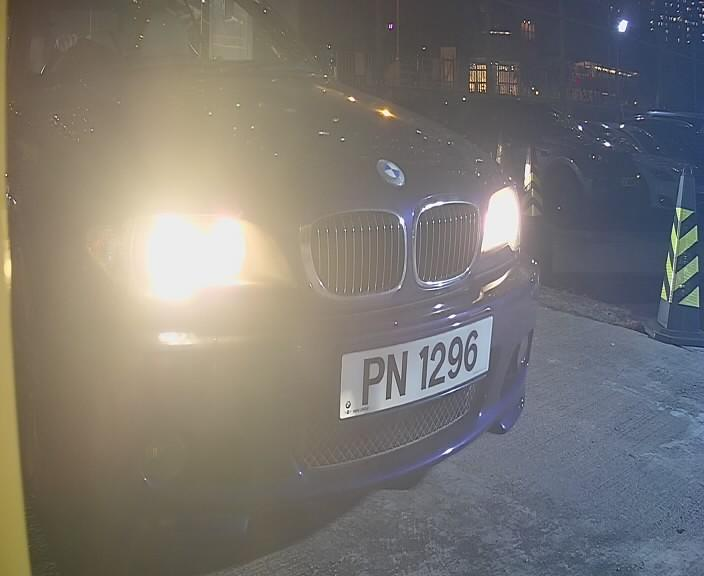privatecar: (60, 6, 557, 535)
